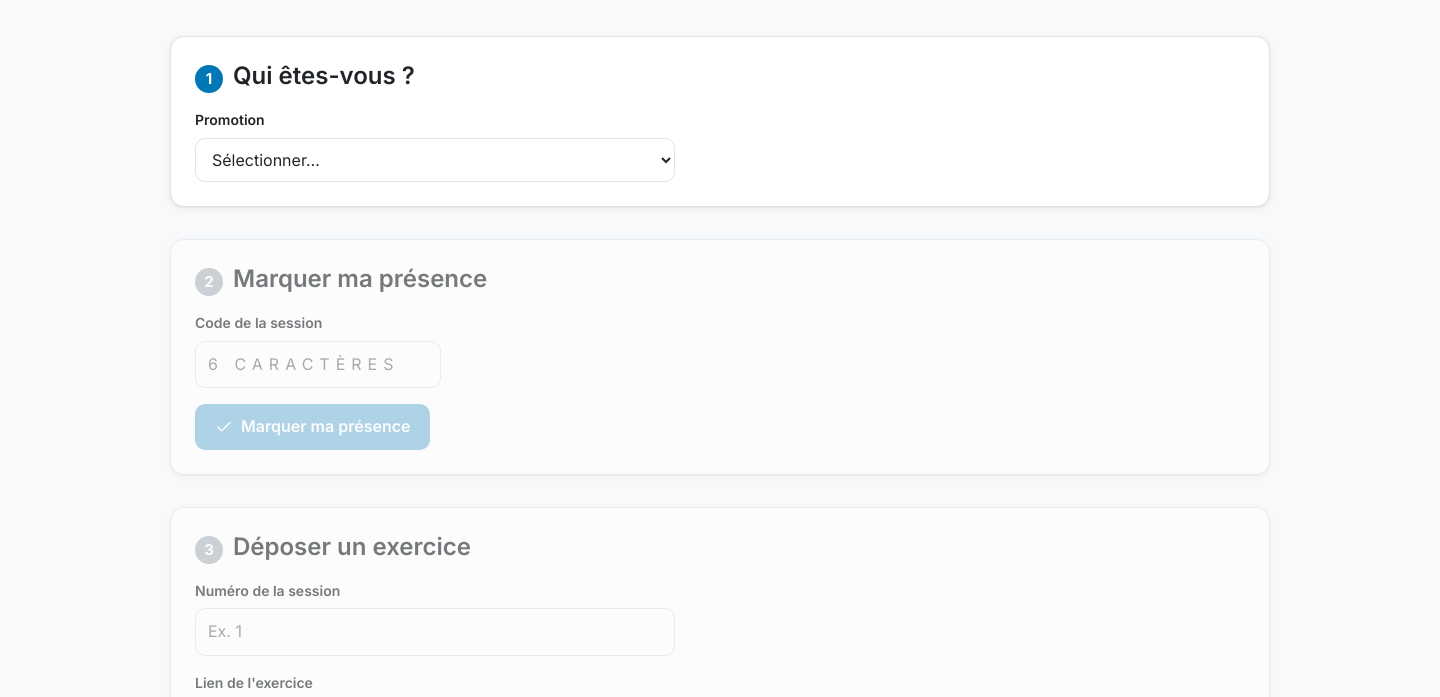
Scenario: EtudiantPage › affiche la mention (provisoire) quand un seul des deux relecteurs a rendu (RG5 v2)
Select "L3 GL" in the dropdown labelled "Promotion" at x=435, y=160, box [195,138,675,182]
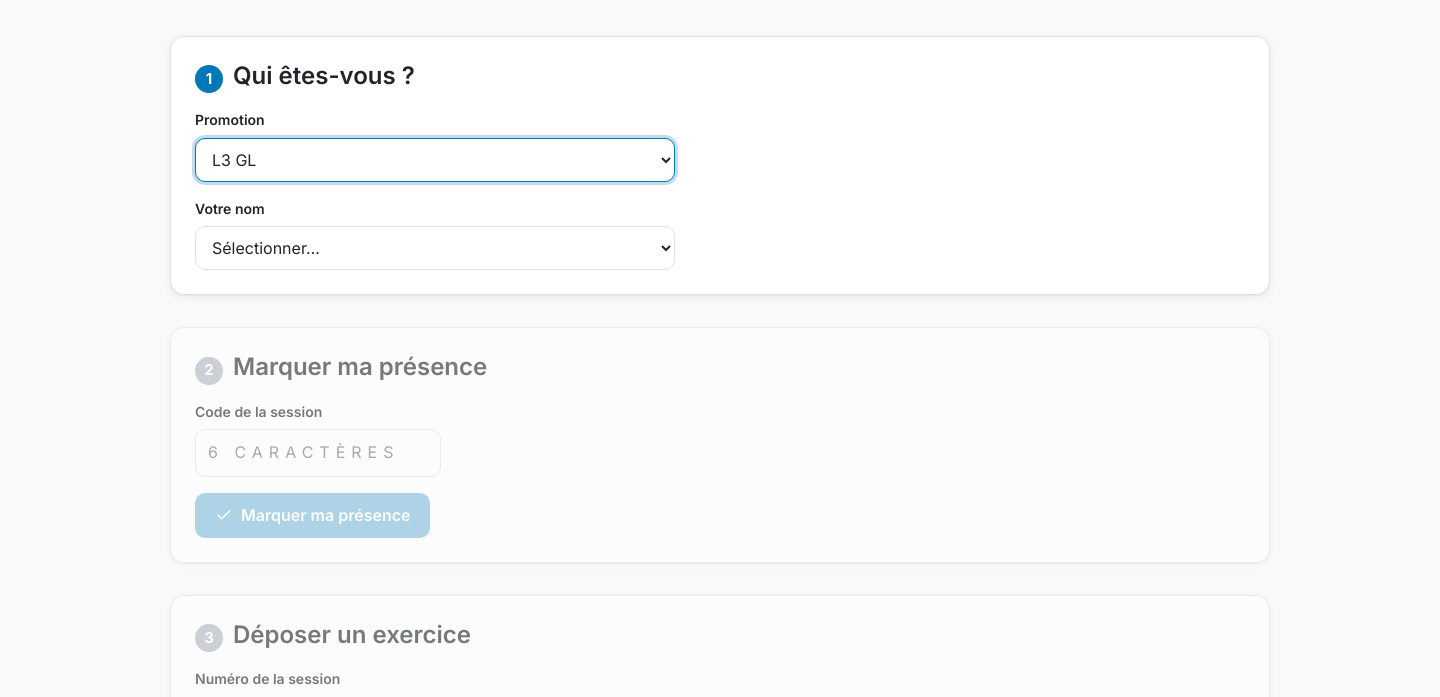
Select "Alice" in the dropdown labelled "Votre nom" at x=435, y=248, box [195,226,675,270]
(page scrolled)
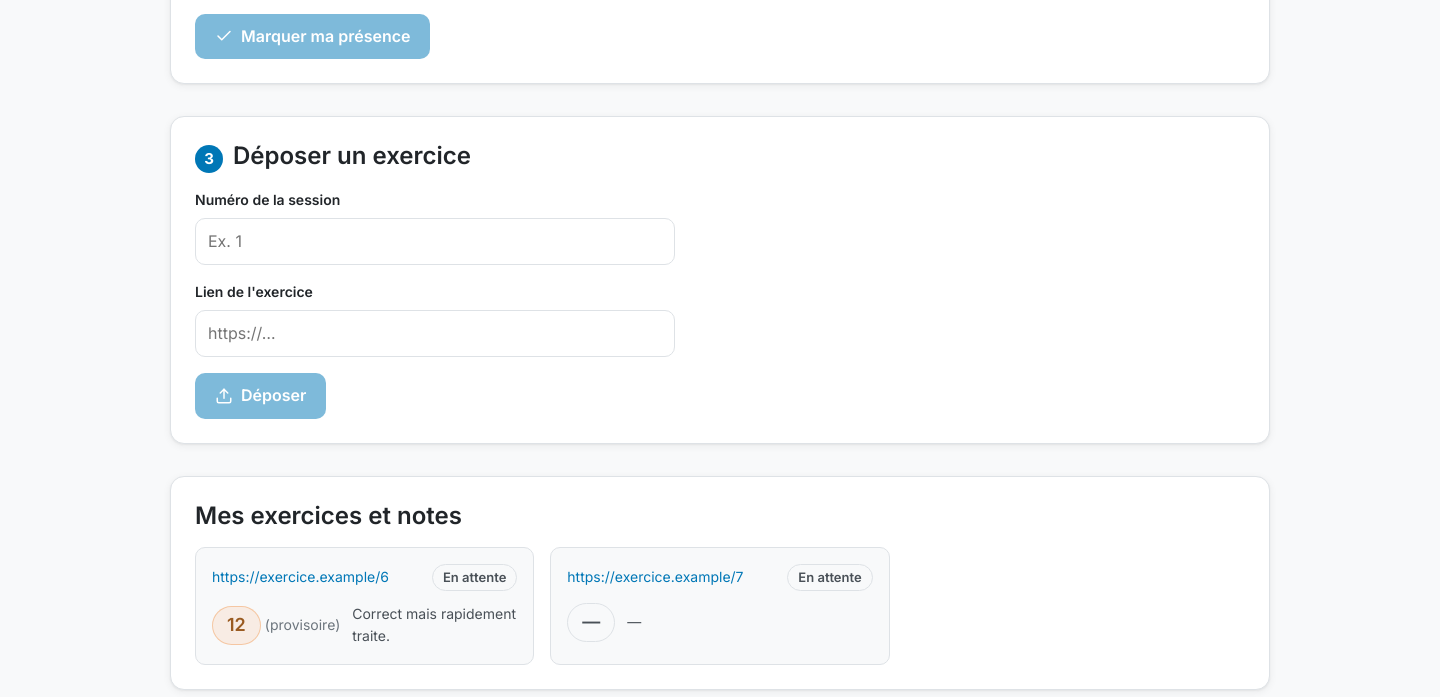
Check: the text "12" is shown, box [212,606,261,645]
Check: the text "(provisoire)" is shown, box [265,614,340,636]
Check: the list item "https://exercice.example/7" is shown, box [567,566,744,589]
